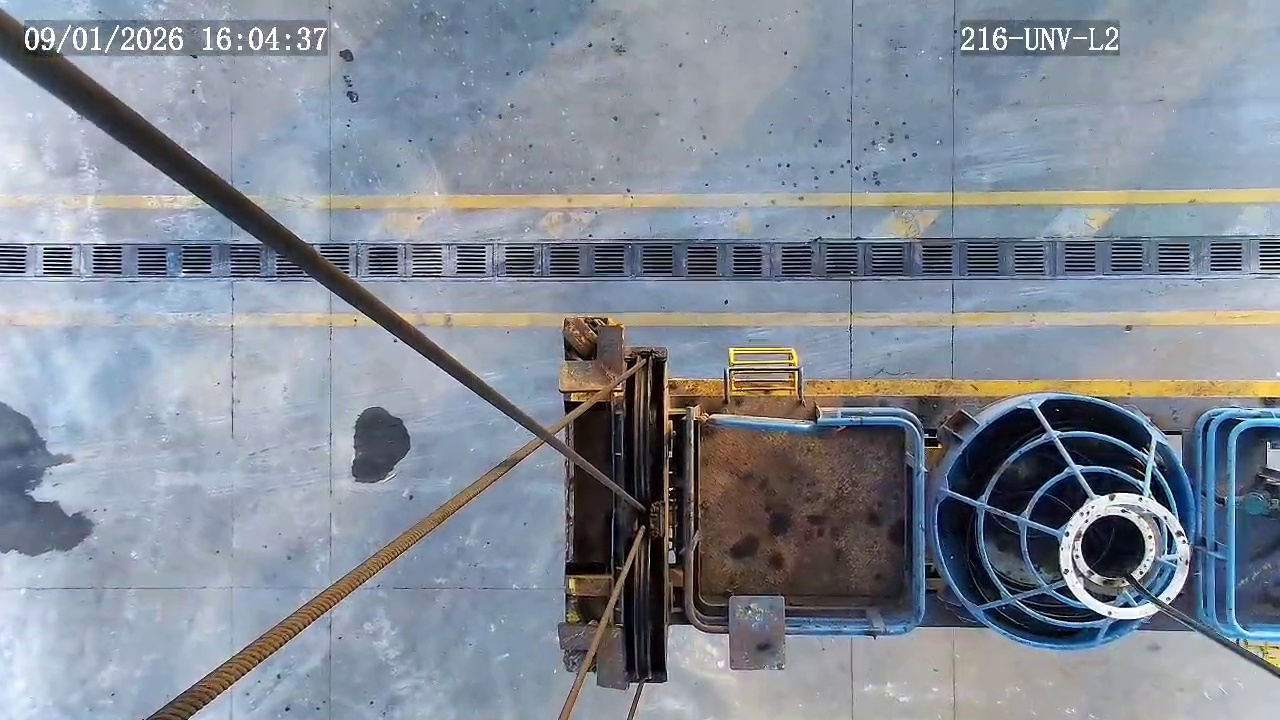left: (933, 397, 1195, 648)
